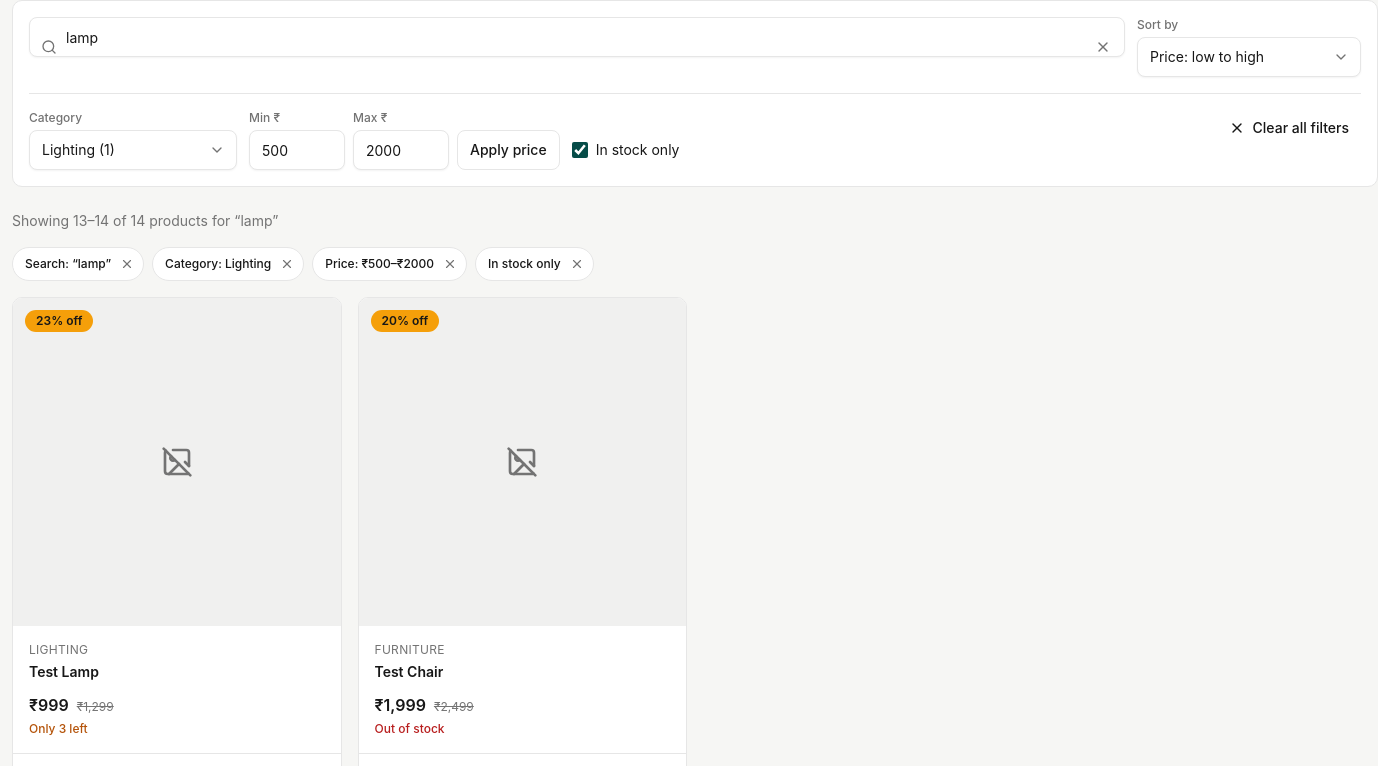
Scenario: CatalogView › restores all state from the URL, exposes it as filters, and updates the URL
Expected: the heading "Test Lamp" is shown, top-left (29, 662), bottom-right (99, 680)
Expected: the text "Showing 13–14 of 14 products for “lamp”" is shown, top-left (12, 211), bottom-right (278, 231)
Select "Price: high to low" in the dropdown labelled "Sort by". click: (1249, 57)
box: top-left (1137, 37), bottom-right (1361, 77)
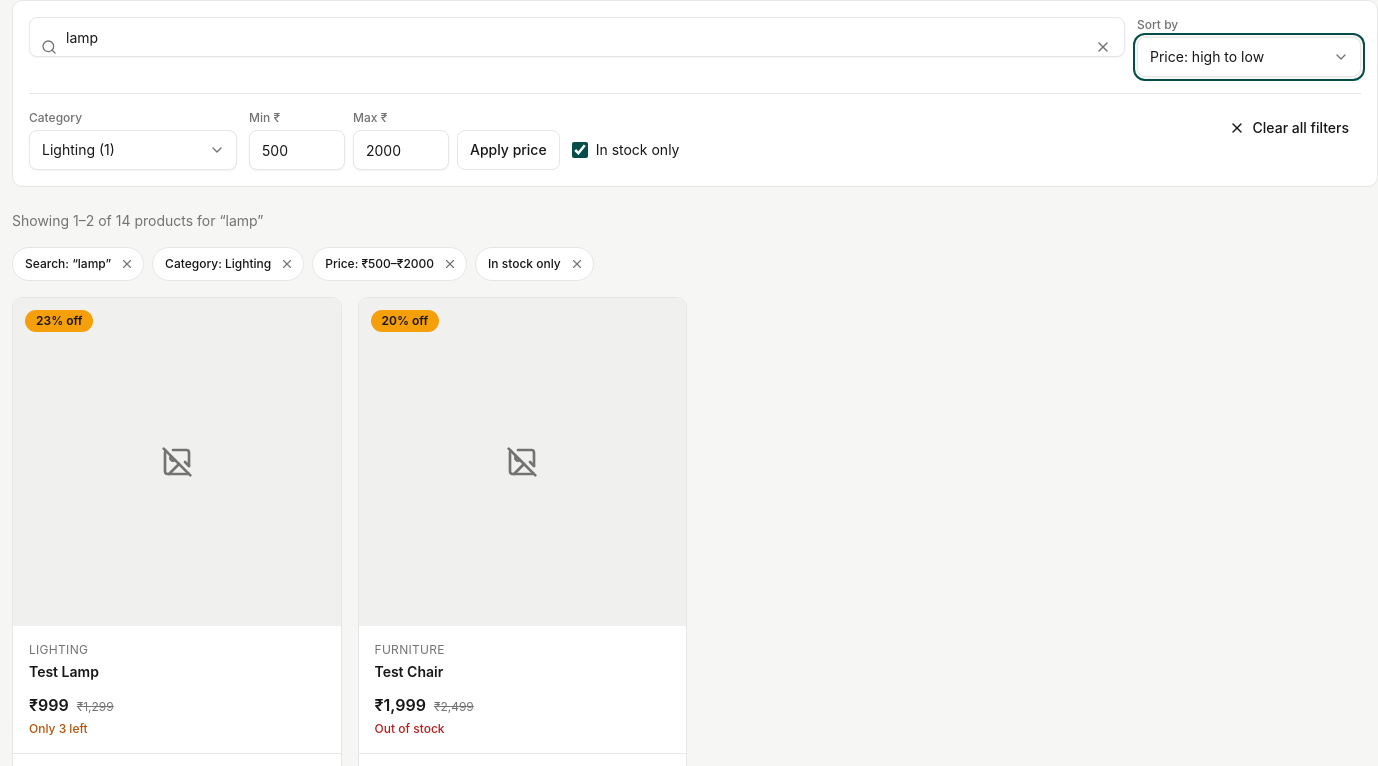
Click the button "Clear all filters". click: (1289, 128)
box: top-left (1217, 110), bottom-right (1361, 146)
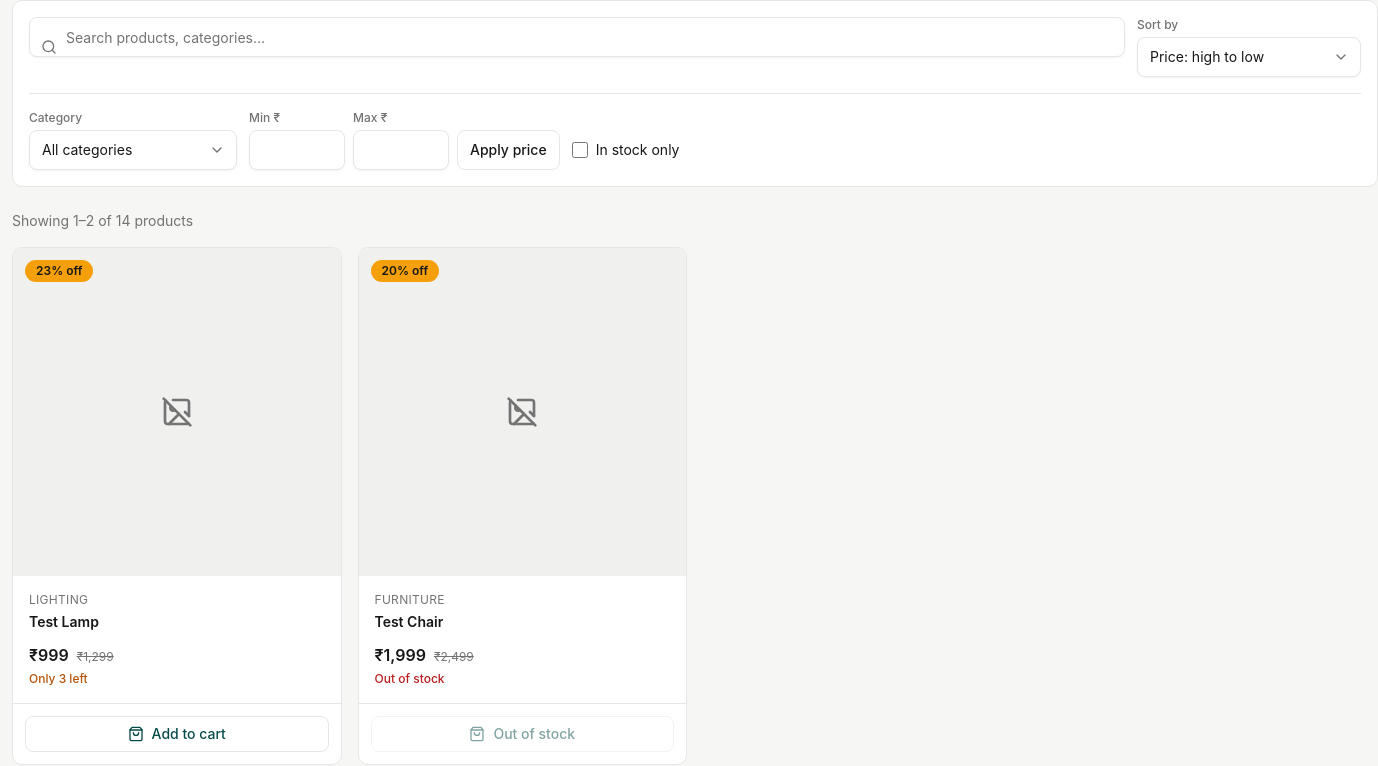
Now the checkbox labelled "In stock only" is not checked, box top-left (572, 142), bottom-right (588, 158)
